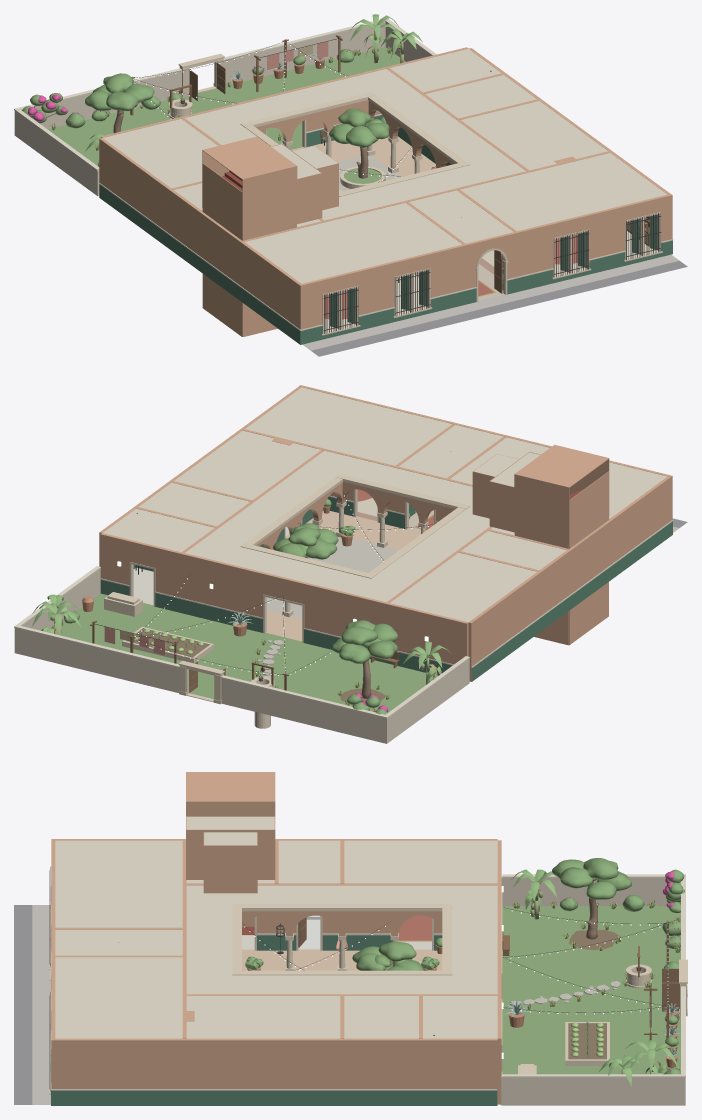
The picture shows the model from 3 angles, top to bottom: view 1: azimuth 30°, elevation 25°; view 2: azimuth 150°, elevation 25°; view 3: azimuth 270°, elevation 25°; orthographic projection. The views are drawn at different scales.
Parts seen in each view (by area): view 1: pb_techo, pb_muro_h0_0, pb_escalera_arriba, pb_muro_v0_0, pb_piso_pasto, pb_muro_h0_0_rej, pb_muro_h0_0_lam, pb_piso_banqueta, pb_piso_calle, pb_muro_h0_0_can, pb_muro_bh480_195, pb_muro_v0_0_lam (+25 smaller); view 2: pb_techo, pb_muro_h340_0, pb_piso_pasto, pb_escalera_arriba, pb_muro_v0_0, pb_muro_bh480_195, pb_muro_bh480_0, pb_muro_v0_0_lam, pb_muro_h340_0_lam, pb_piso_corredor, pb_mamey_copa, pb_muro_bv0_340 (+23 smaller); view 3: pb_techo, pb_muro_v360_0, pb_piso_pasto, pb_escalera_arriba, pb_muro_v360_0_lam, pb_muro_bv360_340, pb_piso_calle, pb_piso_banqueta, pb_muro_bv0_340, pb_piso_corredor, pb_mamey_copa, pb_dintel_v120 (+28 smaller).
Part boxes in pixels (left/top/right/bottom): pb_techo: left=103, top=49, right=666, bottom=283; pb_muro_h0_0: left=299, top=194, right=672, bottom=329; pb_escalera_arriba: left=202, top=136, right=338, bottom=237; pb_muro_v0_0: left=99, top=138, right=301, bottom=328; pb_piso_pasto: left=48, top=47, right=405, bottom=165; pb_muro_h0_0_rej: left=323, top=213, right=661, bottom=333; pb_muro_h0_0_lam: left=298, top=240, right=672, bottom=344; pb_piso_banqueta: left=303, top=254, right=679, bottom=350; pb_piso_calle: left=311, top=260, right=687, bottom=356; pb_muro_h0_0_can: left=321, top=212, right=662, bottom=335; pb_muro_bh480_195: left=214, top=21, right=385, bottom=87; pb_muro_v0_0_lam: left=99, top=184, right=298, bottom=342; pb_techo: left=103, top=387, right=667, bottom=622; pb_muro_h340_0: left=100, top=533, right=468, bottom=664; pb_piso_pasto: left=58, top=593, right=436, bottom=712; pb_escalera_arriba: left=472, top=444, right=609, bottom=545; pb_muro_v0_0: left=468, top=476, right=670, bottom=681; pb_muro_bh480_195: left=14, top=628, right=188, bottom=694; pb_muro_bh480_0: left=221, top=678, right=388, bottom=743; pb_muro_v0_0_lam: left=471, top=523, right=670, bottom=681; pb_muro_h340_0_lam: left=100, top=579, right=452, bottom=675; pb_piso_corredor: left=266, top=510, right=420, bottom=641; pb_mamey_copa: left=332, top=620, right=397, bottom=663; pb_muro_bv0_340: left=388, top=658, right=469, bottom=742; pb_techo: left=55, top=840, right=497, bottom=1038; pb_muro_v360_0: left=55, top=1038, right=497, bottom=1105; pb_piso_pasto: left=499, top=906, right=680, bottom=1104; pb_escalera_arriba: left=186, top=772, right=275, bottom=893; pb_muro_v360_0_lam: left=55, top=1090, right=497, bottom=1105; pb_muro_bv360_340: left=501, top=1075, right=681, bottom=1105; pb_piso_calle: left=14, top=905, right=32, bottom=1104; pb_piso_banqueta: left=32, top=905, right=50, bottom=1104; pb_muro_bv0_340: left=501, top=876, right=667, bottom=905; pb_piso_corredor: left=242, top=949, right=442, bottom=970; pb_mamey_copa: left=552, top=858, right=631, bottom=899; pb_dintel_v120: left=242, top=911, right=442, bottom=936.
Size of the model in its own units: 36.8 by 15.07 by 51.34.
